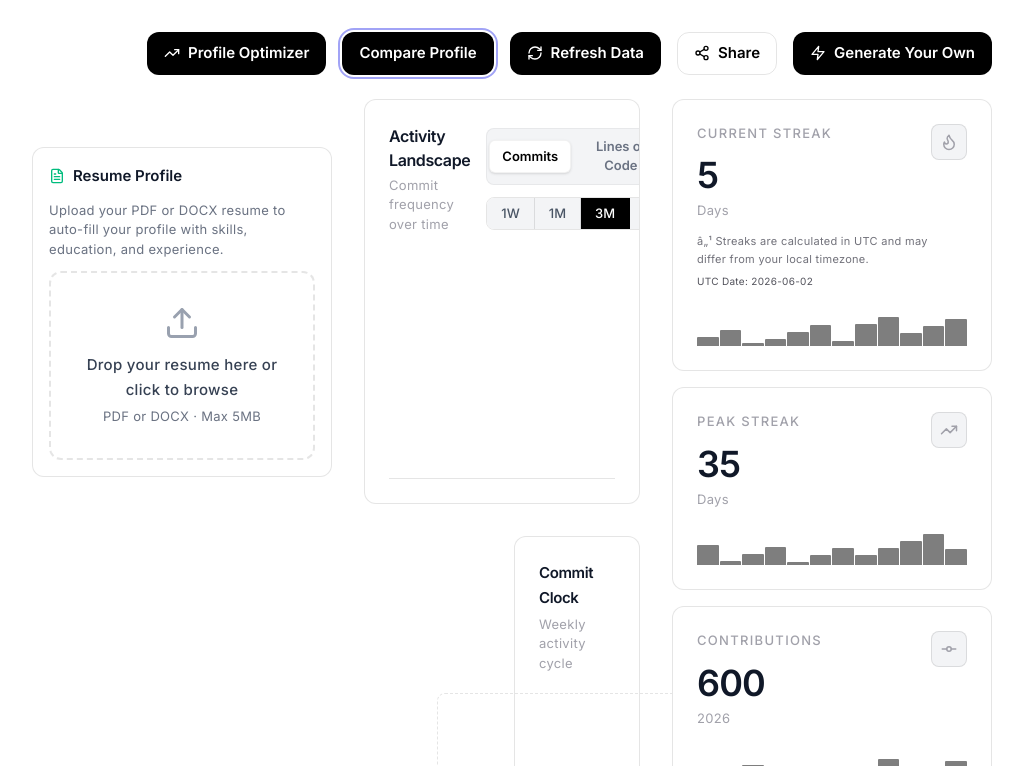
Test: DashboardClient › exits compare mode and restores single profile view
The image size is (1024, 766).
Note: Enter compare mode
Click the button "Compare Profile" at coordinates (418, 53), box [342,32,494,75]
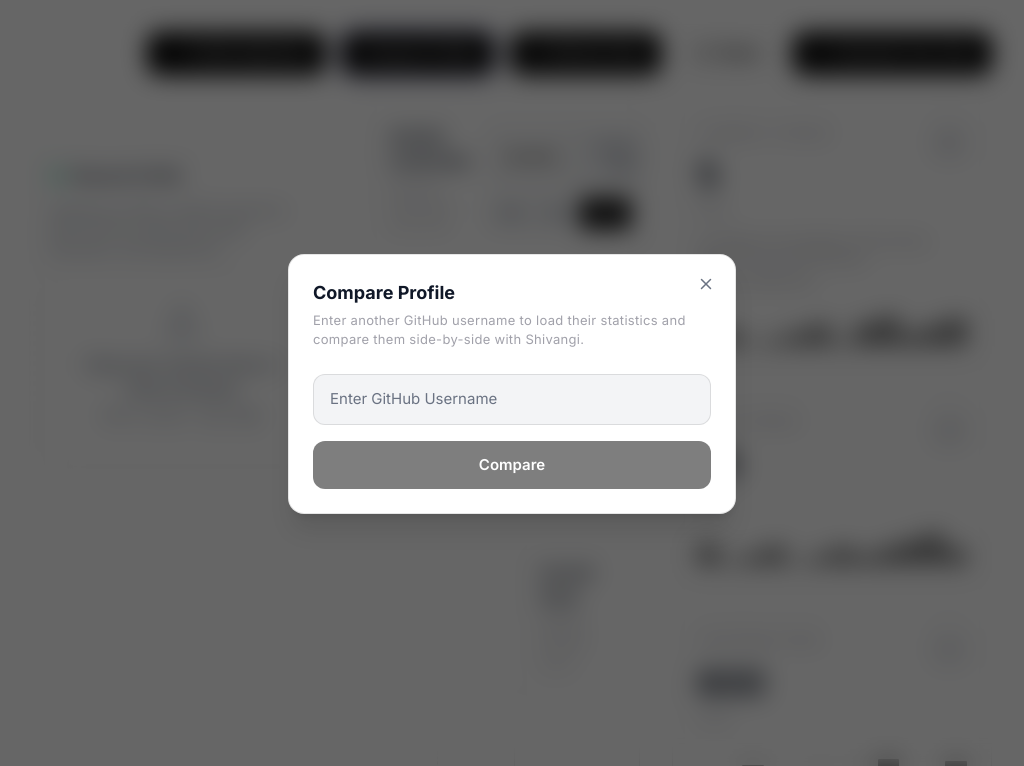
Type "JhaSourav07" into the field with placeholder "Enter GitHub Username" at coordinates (512, 399), box [313,374,711,425]
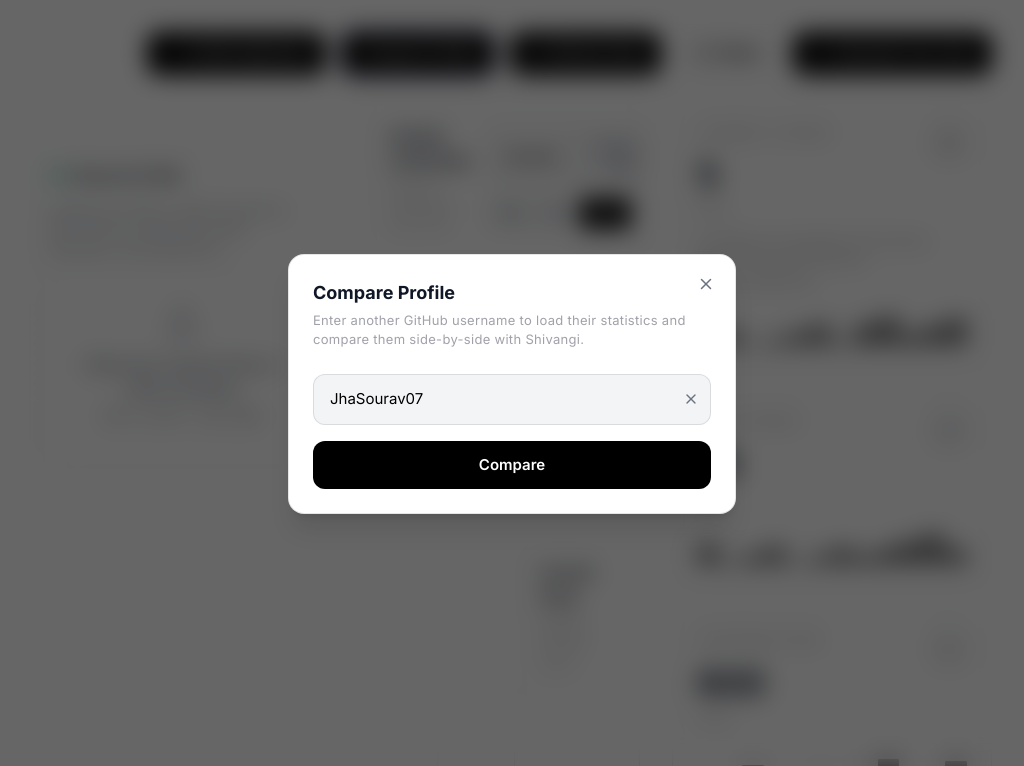
Click the button "Compare" at coordinates (512, 465), box [313,440,711,489]
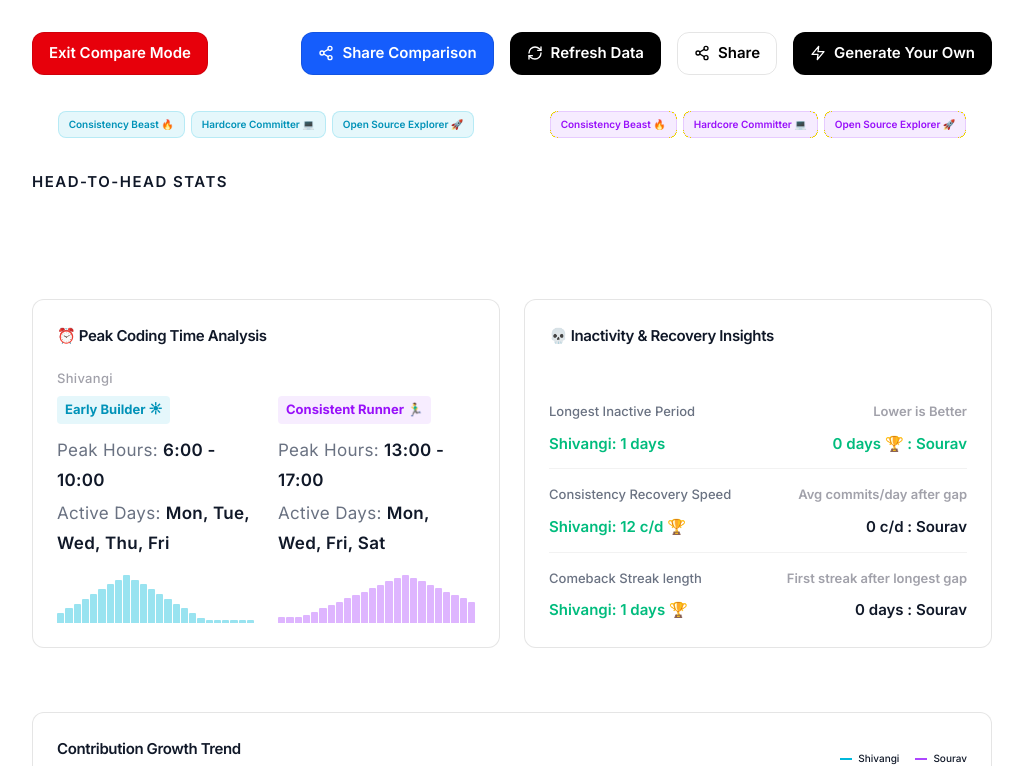
Expected: the button "Exit Compare Mode" is shown
Note: Click it
Click the button "Exit Compare Mode" at coordinates (120, 53), box [32,32,208,75]
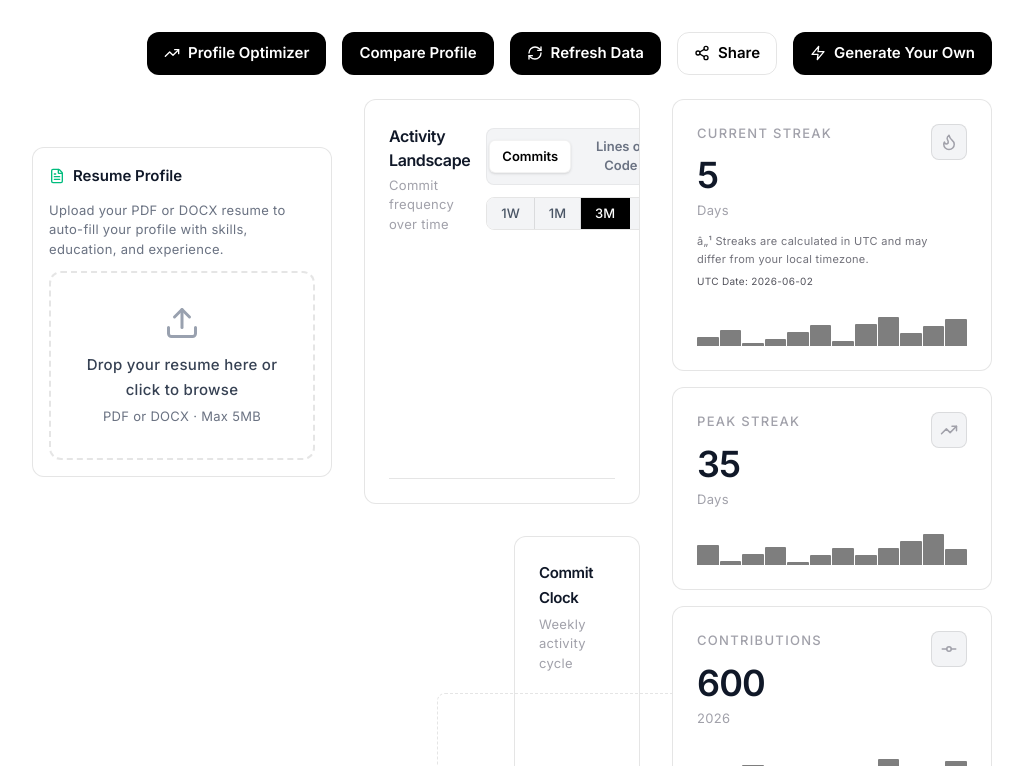
Expected: the button "Compare Profile" is shown, [342,32,494,75]
Expected: the button "Exit Compare Mode" is gone
Expected: the text "Sourav" is gone
